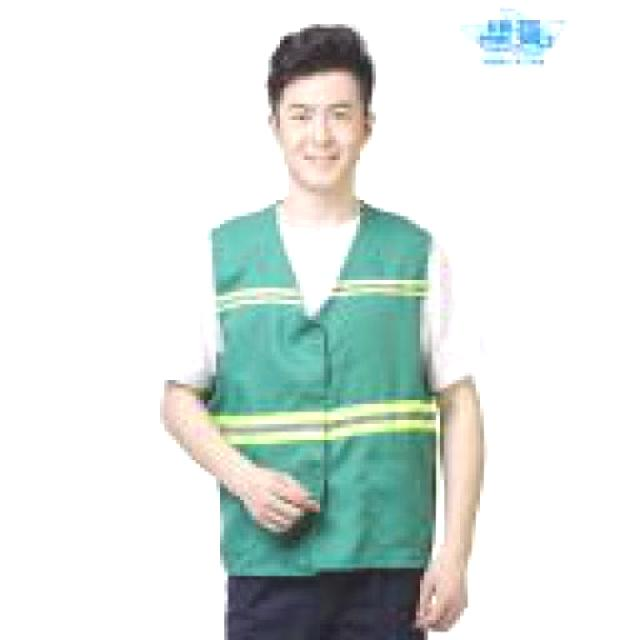face_nomask: (279, 92, 366, 174)
hand_noglove: (232, 460, 326, 540), (408, 556, 478, 634)
head_nohelmet: (262, 18, 386, 92)
person: (159, 21, 487, 640)
vest: (208, 192, 440, 576)
